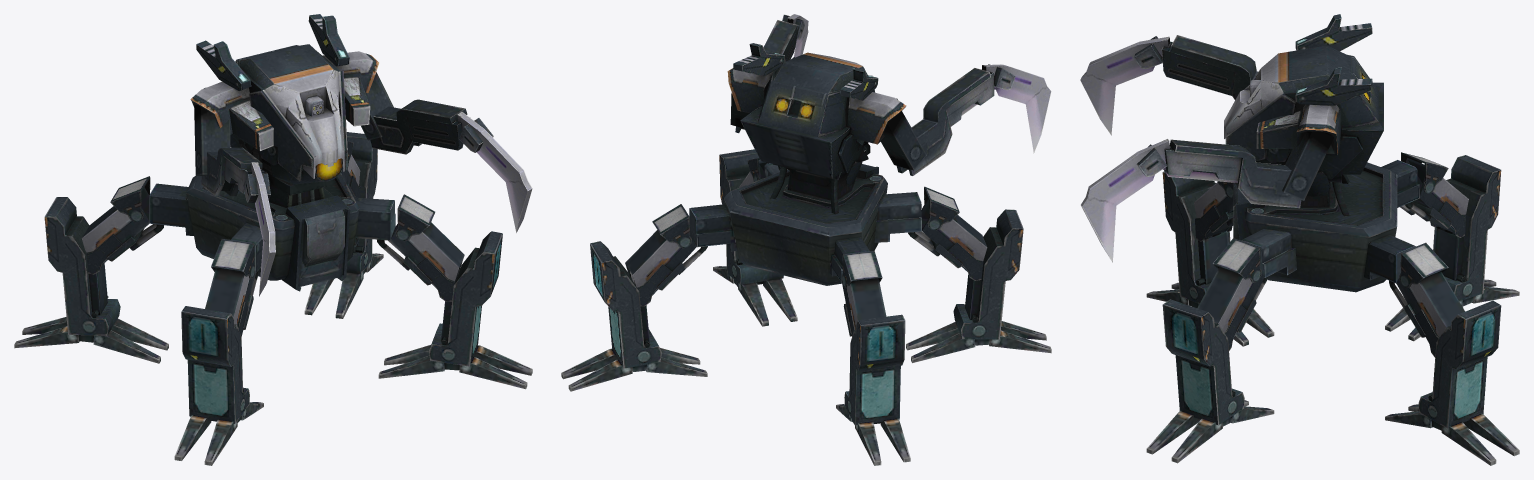
3 renders of one model, left to right at view 1: azimuth 30°, elevation 25°; view 2: azimuth 150°, elevation 25°; view 3: azimuth 270°, elevation 25°, orthographic. The views are drawn at different scales.
Visible parts, largest first — view 1: 20_10; view 2: 20_10; view 3: 20_10.
Part boxes in pixels (x1,y1,x2,y2): 20_10: (14,14,532,465); 20_10: (561,14,1051,465); 20_10: (1080,14,1519,465).
Bounding box in the file's own units: 301 × 256 × 307.
